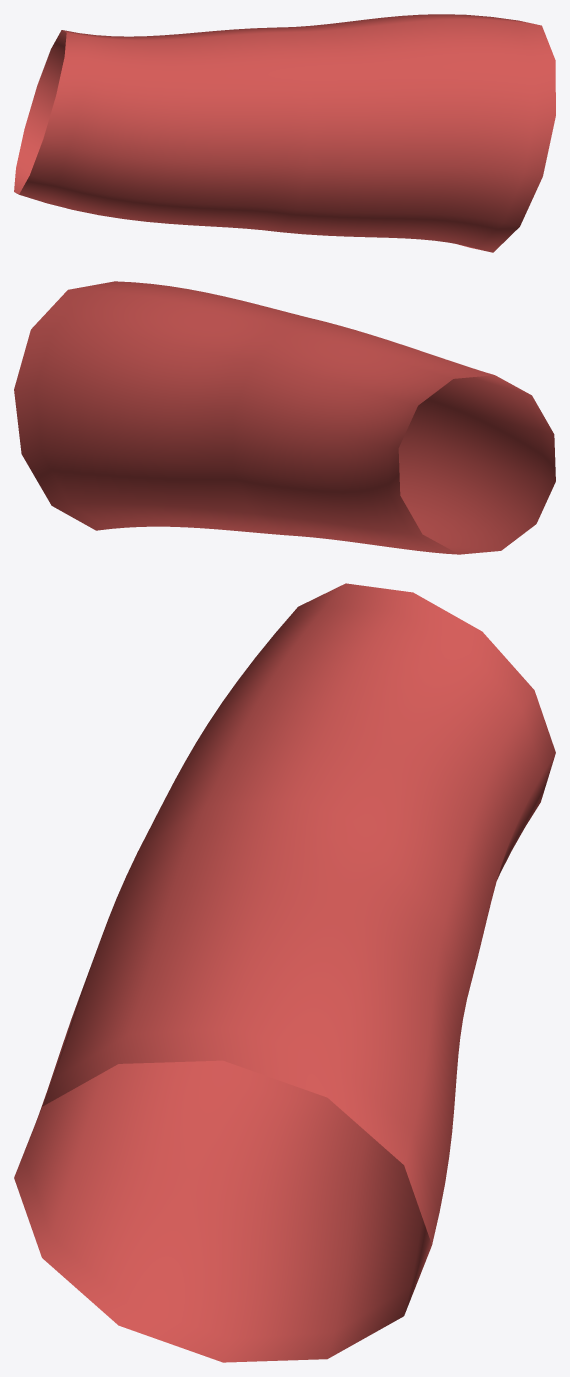
3 renders of one model, top to bottom at view 1: azimuth 30°, elevation 25°; view 2: azimuth 150°, elevation 25°; view 3: azimuth 270°, elevation 25°, orthographic. The views are drawn at different scales.
Visible parts, largest first — view 1: 右肺动脉; view 2: 右肺动脉; view 3: 右肺动脉.
Boxes of the visible parts, left/top/right/bottom form: 右肺动脉: left=14, top=14, right=555, bottom=252; 右肺动脉: left=14, top=281, right=555, bottom=554; 右肺动脉: left=14, top=583, right=555, bottom=1362.
Size of the model in its own units: 0.0771 by 0.0389 by 0.041.
